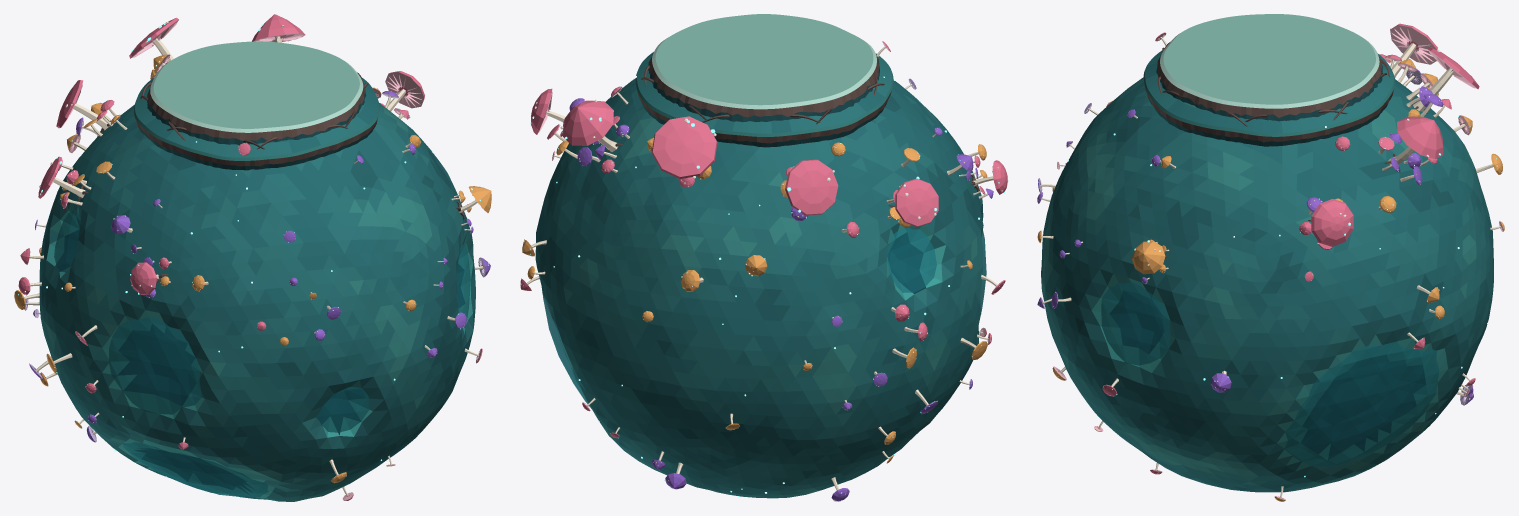
Rendered from 08_Sporehaven.glb.
The picture shows the model from 3 angles, left to right: view 1: azimuth 30°, elevation 25°; view 2: azimuth 150°, elevation 25°; view 3: azimuth 270°, elevation 25°; orthographic projection. The views are drawn at different scales.
Parts seen in each view (by area): view 1: Sporehaven_Body, Sporehaven_BuildArea, Sporehaven_Ocean, Sporehaven_Terraces, Sporehaven_Deco_MushroomsLarge, Sporehaven_Deco_MushroomsMedium, Sporehaven_Deco_MushroomsSmall, Sporehaven_Deco_Roots; view 2: Sporehaven_Body, Sporehaven_BuildArea, Sporehaven_Deco_MushroomsLarge, Sporehaven_Terraces, Sporehaven_Deco_MushroomsMedium, Sporehaven_Ocean, Sporehaven_Deco_MushroomsSmall, Sporehaven_Deco_Roots; view 3: Sporehaven_Body, Sporehaven_BuildArea, Sporehaven_Ocean, Sporehaven_Terraces, Sporehaven_Deco_MushroomsLarge, Sporehaven_Deco_MushroomsMedium, Sporehaven_Deco_MushroomsSmall, Sporehaven_Deco_Roots.
Boxes of the visible parts, box(x1,y1,x2,y2) form: Sporehaven_Body: box(39, 103, 475, 501); Sporehaven_BuildArea: box(147, 41, 366, 145); Sporehaven_Ocean: box(54, 209, 470, 497); Sporehaven_Terraces: box(134, 78, 379, 170); Sporehaven_Deco_MushroomsLarge: box(38, 14, 491, 294); Sporehaven_Deco_MushroomsMedium: box(14, 54, 490, 482); Sporehaven_Deco_MushroomsSmall: box(24, 114, 447, 500); Sporehaven_Deco_Roots: box(78, 72, 464, 288); Sporehaven_Body: box(535, 78, 983, 498); Sporehaven_BuildArea: box(648, 14, 879, 122); Sporehaven_Deco_MushroomsLarge: box(530, 88, 1008, 226); Sporehaven_Terraces: box(635, 52, 893, 147); Sporehaven_Deco_MushroomsMedium: box(522, 98, 1005, 501); Sporehaven_Ocean: box(542, 227, 986, 408); Sporehaven_Deco_MushroomsSmall: box(520, 41, 991, 469); Sporehaven_Deco_Roots: box(605, 65, 978, 207); Sporehaven_Body: box(1041, 77, 1493, 492); Sporehaven_BuildArea: box(1156, 14, 1382, 121); Sporehaven_Ocean: box(1101, 282, 1439, 466); Sporehaven_Terraces: box(1143, 50, 1394, 146); Sporehaven_Deco_MushroomsLarge: box(1132, 23, 1479, 274); Sporehaven_Deco_MushroomsMedium: box(1038, 54, 1502, 405); Sporehaven_Deco_MushroomsSmall: box(1037, 32, 1504, 501); Sporehaven_Deco_Roots: box(1157, 41, 1427, 257).
Size of the model in its own units: 2.27 by 2.1 by 2.12.
